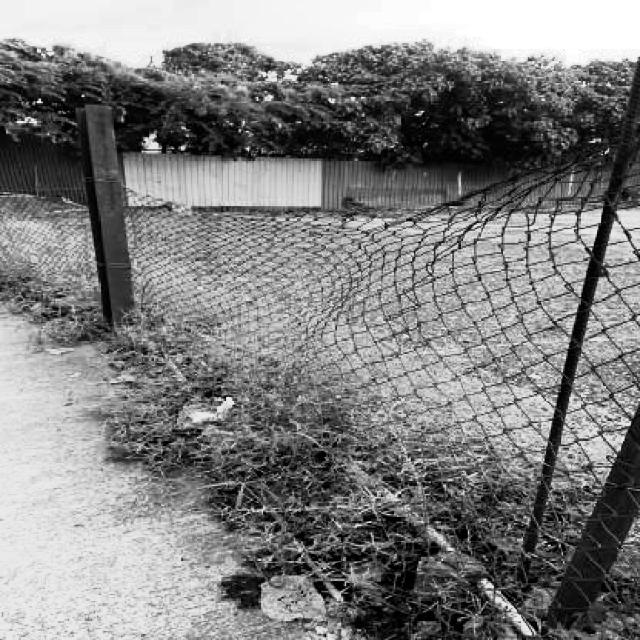anomaly-fence: (114, 154, 593, 262)
